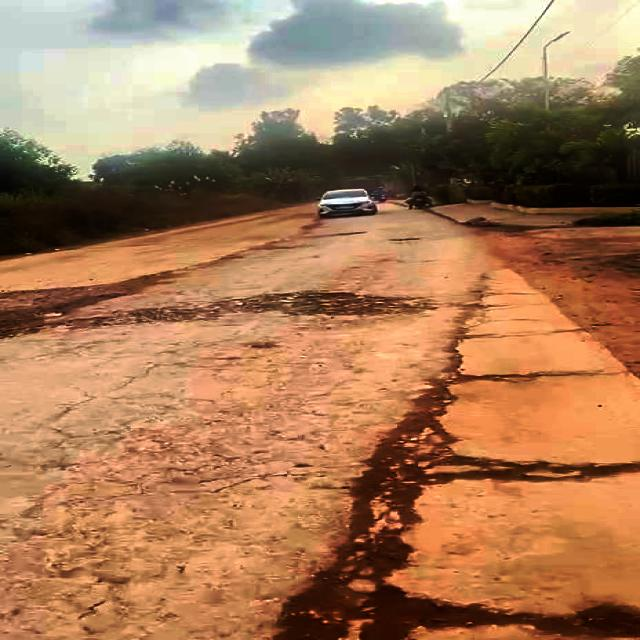pothole: (342, 412, 611, 537), (270, 558, 640, 640)
